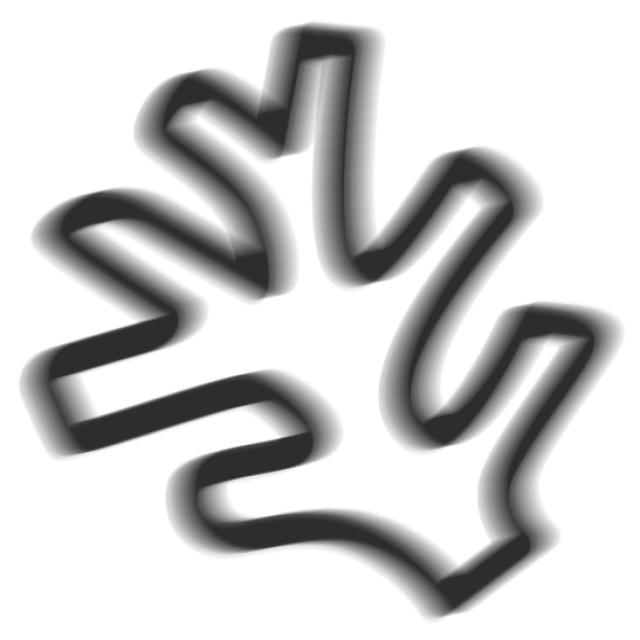coral: (9, 17, 629, 640)
